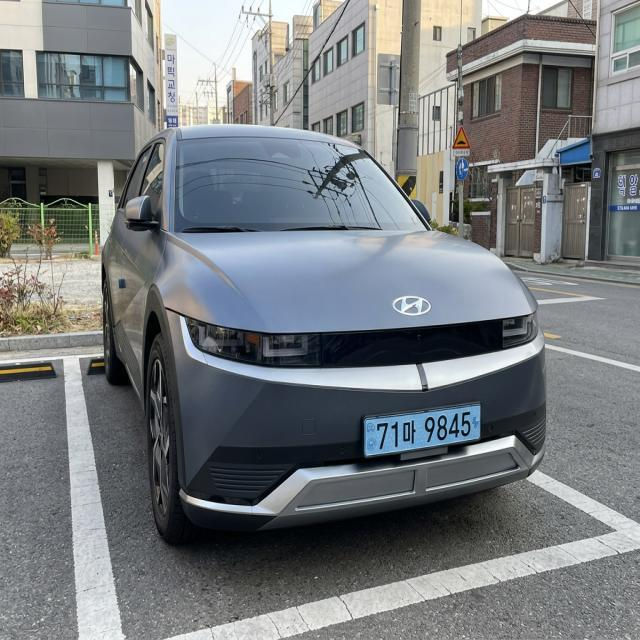car: (341, 396, 492, 467)
carev: (471, 401, 487, 450), (365, 418, 378, 462)
